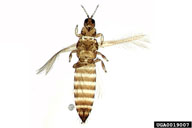Thrips: (37, 2, 148, 125)
